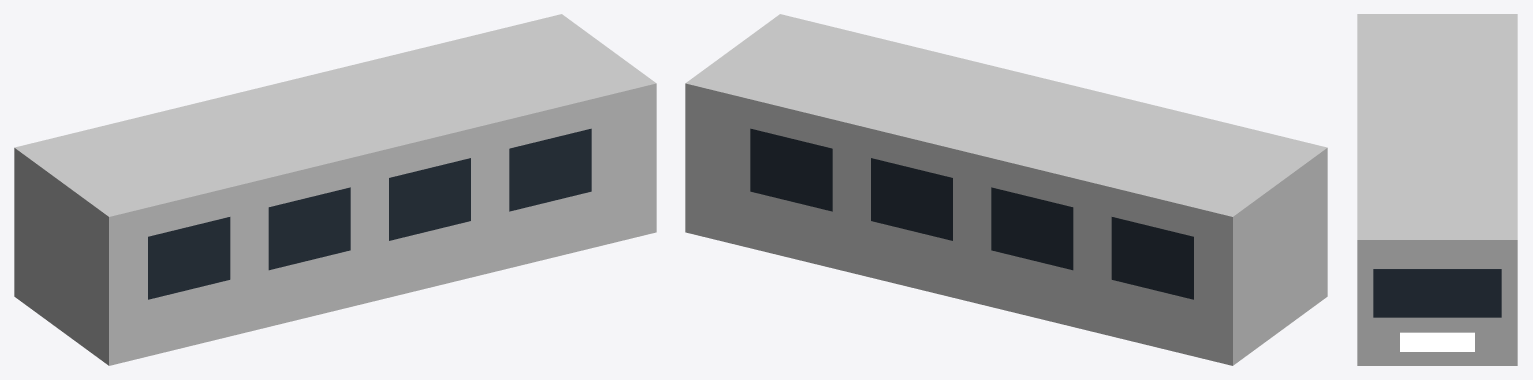
Rendered from train.glb.
3 views of the same model, side by side, from view 1: azimuth 30°, elevation 25°; view 2: azimuth 150°, elevation 25°; view 3: azimuth 270°, elevation 25° (orthographic). The views are drawn at different scales.
Visible parts, largest first — view 1: train; view 2: train; view 3: train.
Part boxes in pixels (x1,y1,x2,y2): train: (14, 14, 656, 365); train: (685, 14, 1327, 365); train: (1357, 14, 1517, 365).
Size of the model in its own units: 1 by 0.275 by 0.304.
